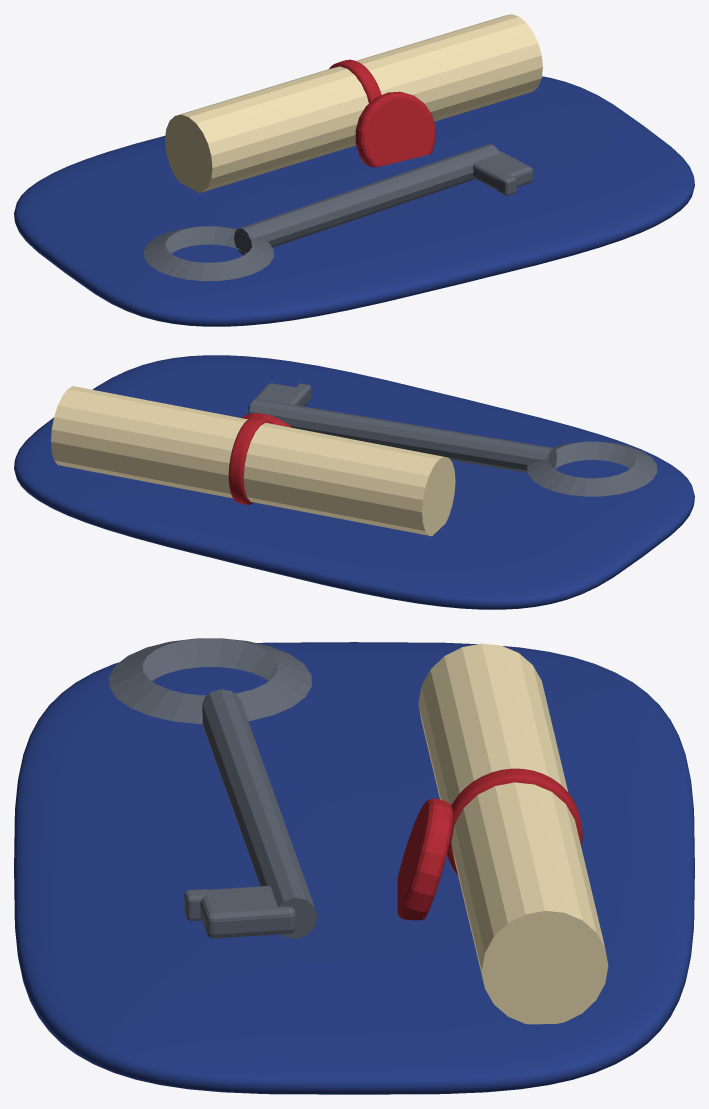
The model's file is llave_sello.glb.
3 views of the same model, one above another, from view 1: azimuth 30°, elevation 25°; view 2: azimuth 150°, elevation 25°; view 3: azimuth 270°, elevation 25° (orthographic). The views are drawn at different scales.
Visible parts, largest first — view 1: pano, rollo, llave_cana, sello, llave_ojo, llave_pala, cordel; view 2: pano, rollo, llave_cana, llave_ojo, cordel, llave_pala; view 3: pano, rollo, llave_cana, llave_ojo, sello, llave_pala, cordel.
Boxes of the visible parts, box(x1,y1,x2,y2) form: pano: box(14, 76, 694, 326); rollo: box(165, 14, 542, 192); llave_cana: box(234, 144, 499, 255); sello: box(355, 91, 435, 167); llave_ojo: box(144, 226, 273, 281); llave_pala: box(473, 150, 533, 190); cordel: box(329, 59, 381, 102); pano: box(14, 355, 694, 609); rollo: box(51, 386, 455, 536); llave_cana: box(249, 399, 556, 472); llave_ojo: box(527, 441, 657, 496); cordel: box(228, 417, 272, 504); llave_pala: box(248, 383, 307, 414); pano: box(14, 642, 694, 1094); rollo: box(418, 643, 608, 1024); llave_cana: box(202, 689, 317, 938); llave_ojo: box(109, 638, 311, 724); sello: box(397, 798, 453, 920); llave_pala: box(200, 885, 295, 938); cordel: box(447, 768, 582, 876).
Size of the model in its own units: 0.46 by 0.0755 by 0.3.
